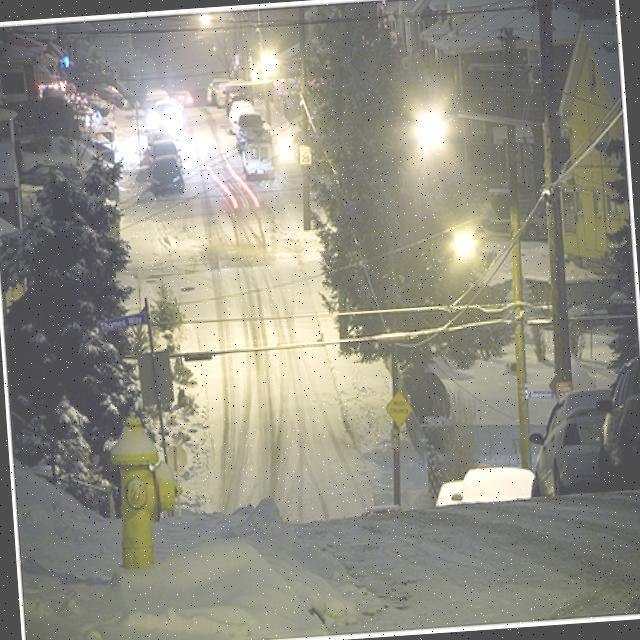fire_hydrant: (102, 401, 190, 570)
